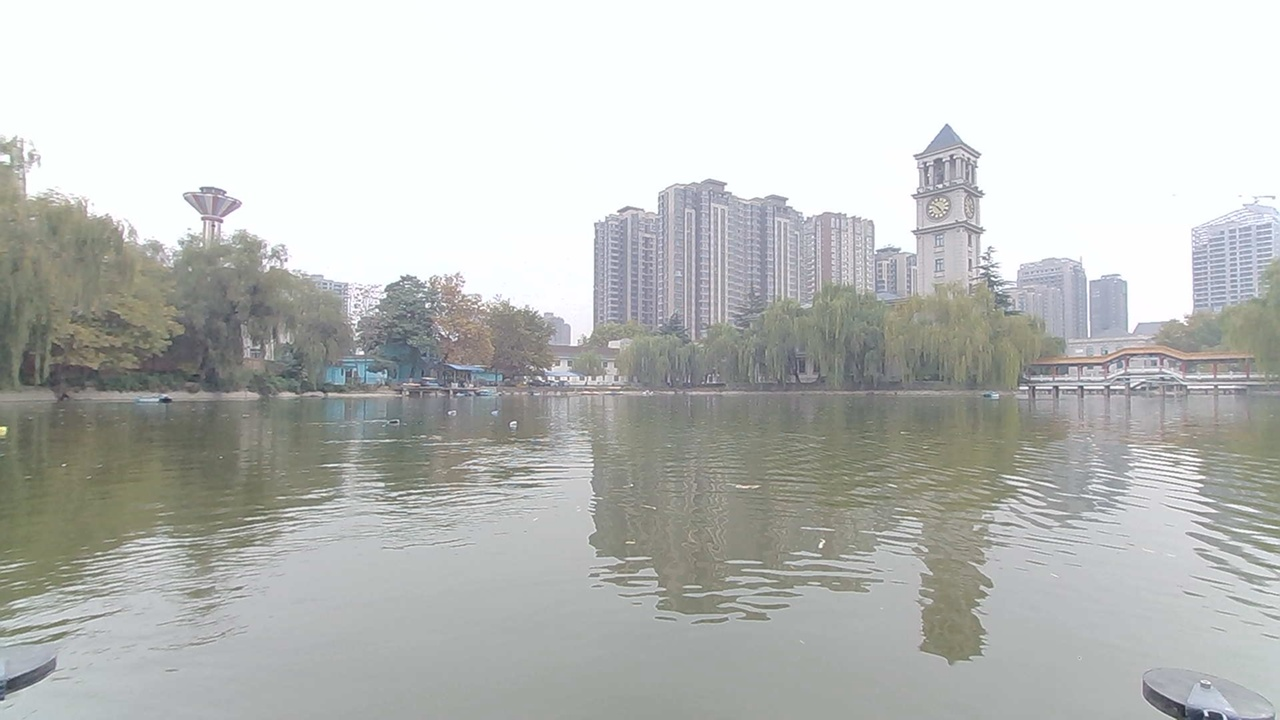bottle: (507, 412, 548, 442), (374, 409, 410, 439), (477, 397, 515, 422), (435, 400, 463, 425)
